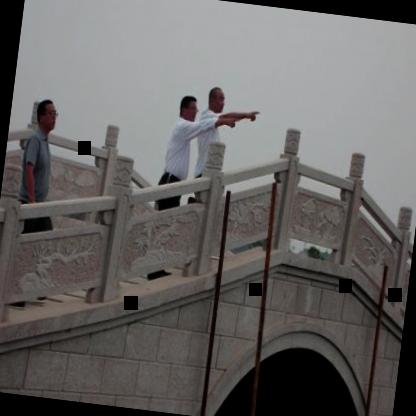head: (204, 81, 232, 124), (30, 95, 60, 134), (175, 90, 202, 128)
